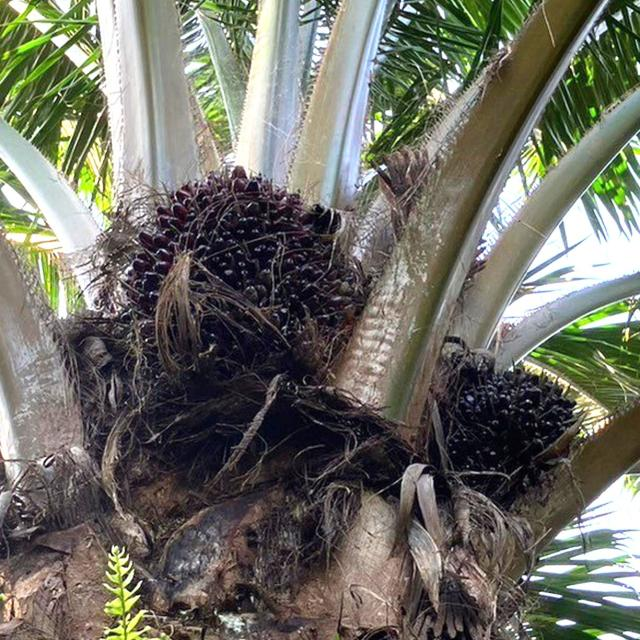ripe: (104, 154, 378, 417)
